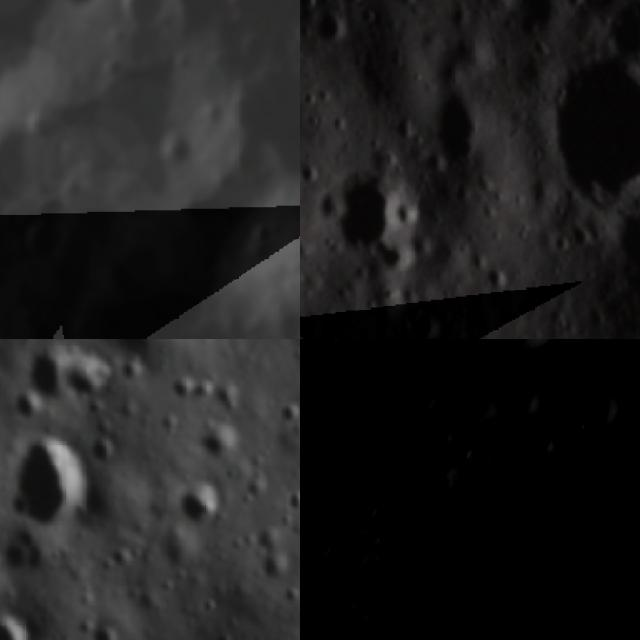crater: (321, 493, 640, 640), (523, 33, 640, 222), (318, 158, 416, 260), (2, 429, 96, 531), (413, 76, 501, 179), (594, 197, 640, 320), (217, 0, 300, 59), (352, 361, 408, 433), (568, 374, 627, 432), (57, 349, 111, 405), (0, 524, 54, 576), (175, 478, 227, 530), (18, 218, 67, 270), (18, 101, 66, 152), (114, 0, 167, 46), (0, 127, 29, 211), (149, 125, 195, 176), (194, 421, 240, 465), (506, 377, 548, 422), (314, 0, 355, 45), (399, 300, 443, 339), (34, 0, 110, 22), (253, 522, 286, 560), (411, 386, 450, 417), (257, 553, 291, 587), (212, 379, 244, 414), (109, 339, 166, 358), (0, 611, 36, 640), (0, 47, 14, 103), (170, 378, 198, 404), (277, 400, 300, 427), (84, 624, 121, 640), (282, 581, 300, 612), (334, 0, 382, 11), (200, 596, 220, 622), (283, 489, 300, 513)
